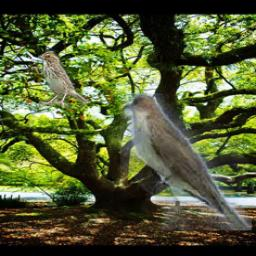Cuckoo: (121, 93, 253, 230)
Sparrow: (39, 51, 88, 109)
